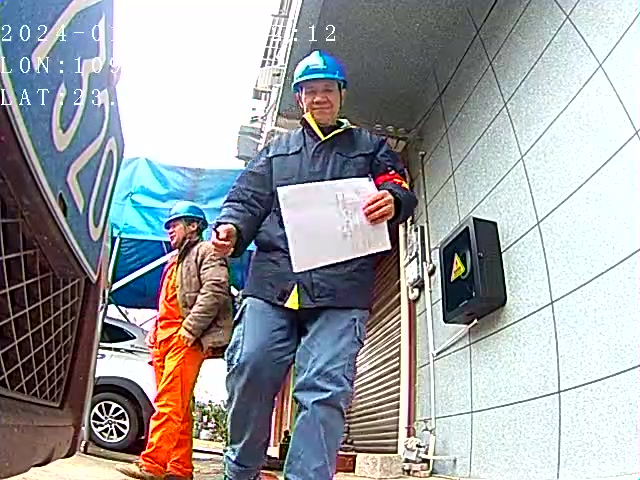badge: (374, 169, 411, 189)
downsuit: (221, 290, 360, 479)
halt: (290, 50, 351, 130), (162, 201, 210, 247)
hand: (362, 189, 394, 225), (212, 222, 234, 260)
inear: (182, 217, 201, 237)
person: (208, 49, 418, 480), (122, 202, 231, 477)
upcloth: (211, 113, 416, 316), (153, 237, 232, 344)
ydownsuit: (145, 342, 204, 470)
